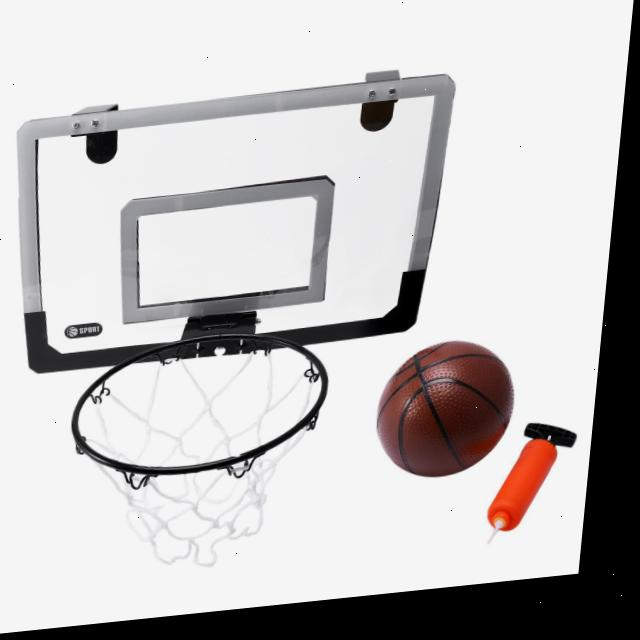basketball: (371, 334, 520, 484)
hoop: (57, 322, 334, 583)
